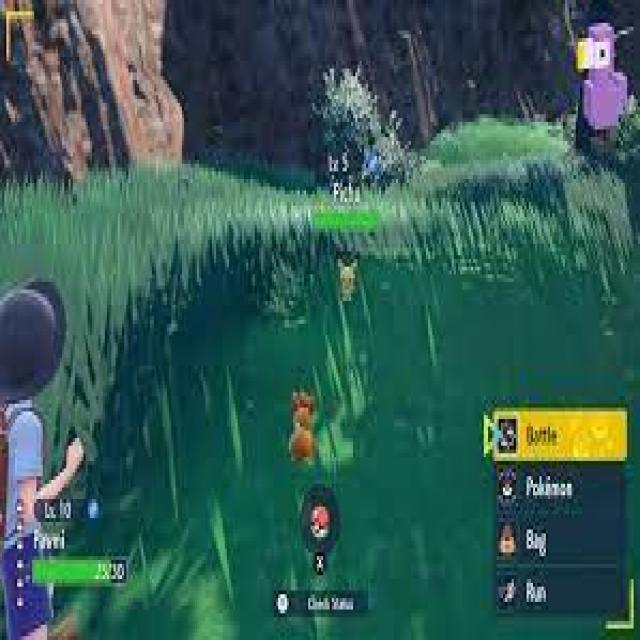pichu: (333, 230, 372, 331)
